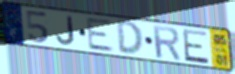5: (25, 10, 50, 44)
D: (116, 21, 146, 58)
E: (181, 28, 211, 66), (85, 17, 116, 53)
J: (55, 15, 77, 47)
R: (151, 24, 183, 62)
